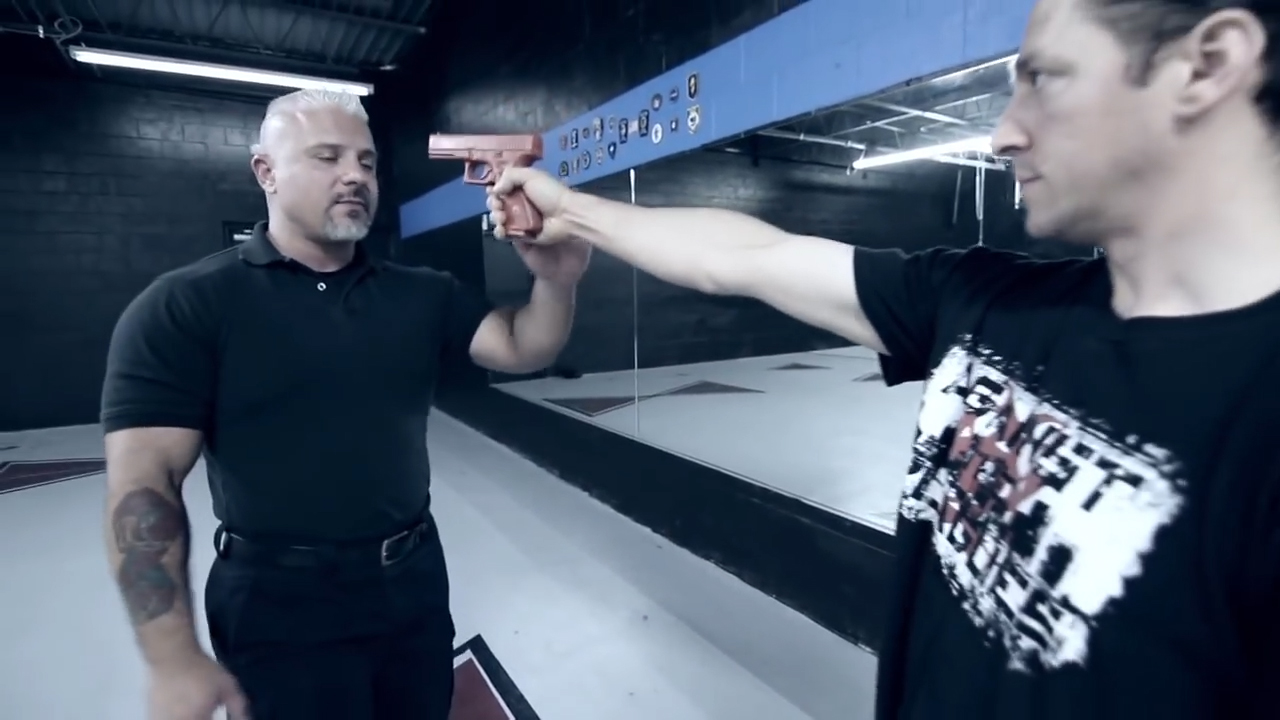pistol: (426, 129, 548, 242)
